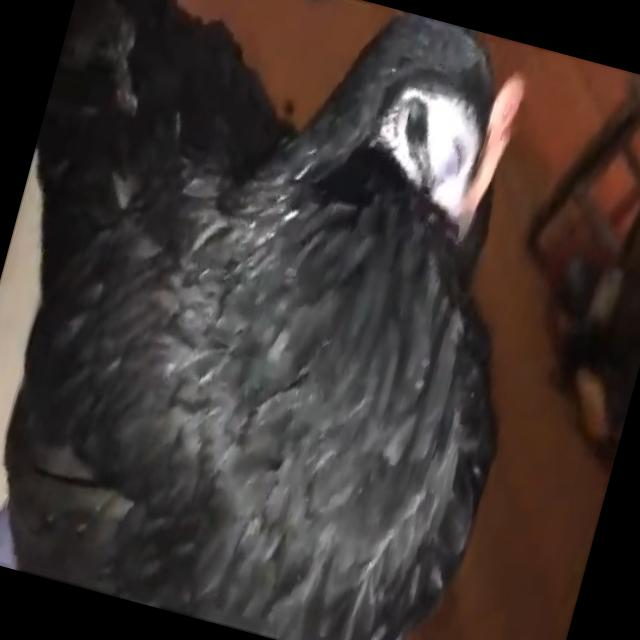self preening: (0, 0, 601, 640)
